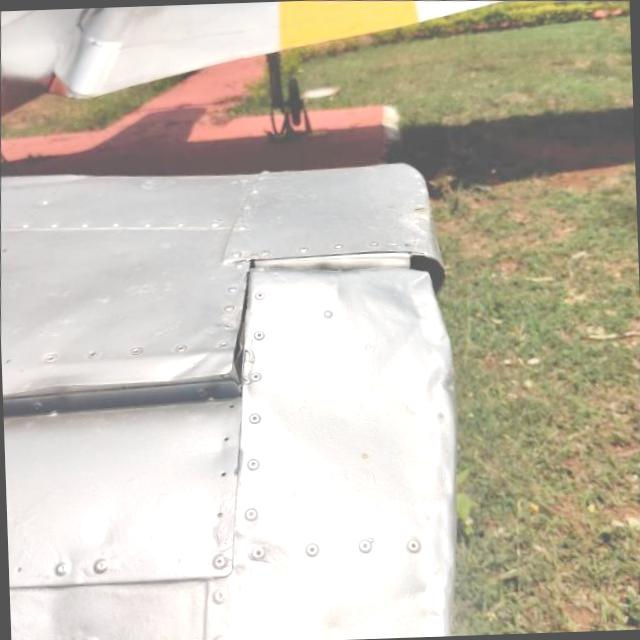Missing Fastener: (211, 401, 245, 528), (2, 349, 20, 371), (14, 562, 31, 578)
dent: (322, 251, 452, 340)
